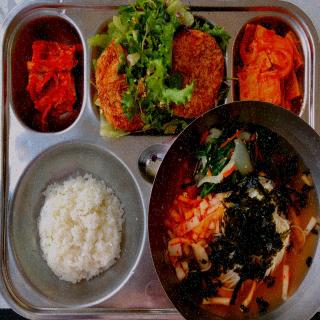Nasi: (35, 174, 126, 281)
